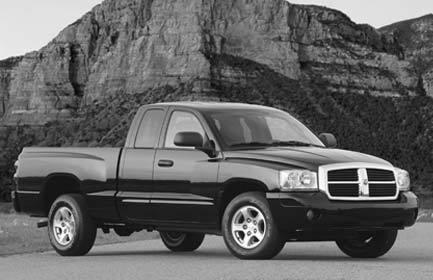car: (12, 100, 423, 264)
